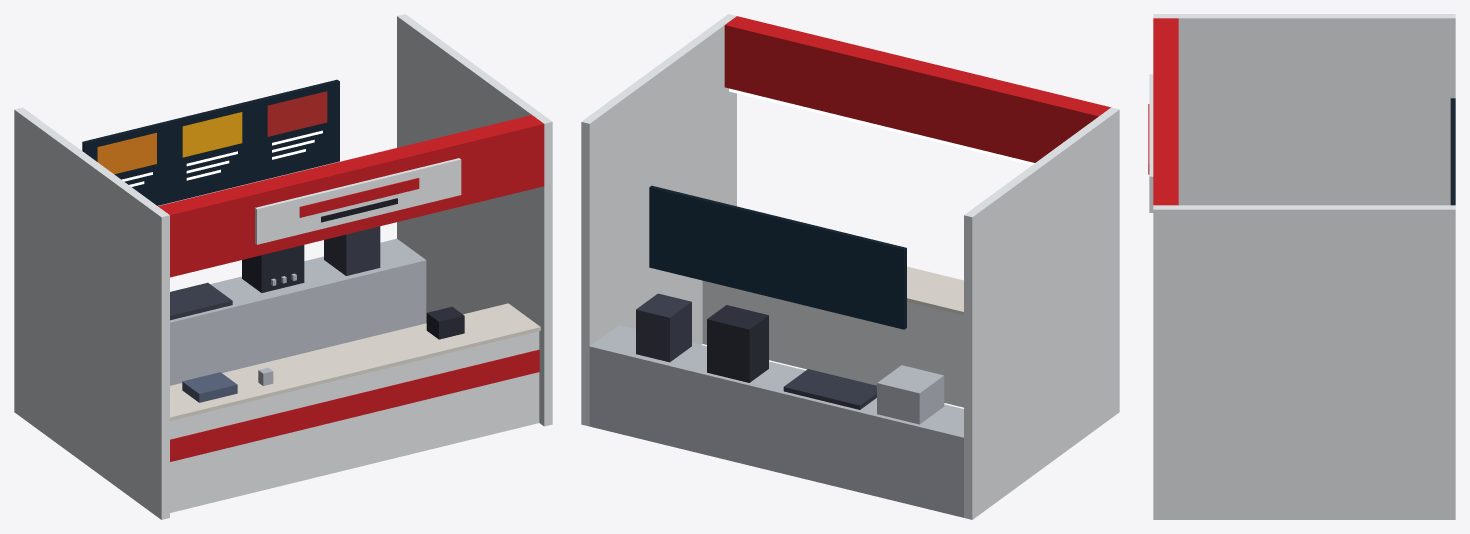
File: mal-020.glb
3 renders of one model, left to right at view 1: azimuth 30°, elevation 25°; view 2: azimuth 150°, elevation 25°; view 3: azimuth 270°, elevation 25°, orthographic. The views are drawn at different scales.
Visible parts, largest first — view 1: white, accent_red, stainless, monitor_screen, laminate, dark_steel, plastic_dark, accent_amber, fruit_red, fruit_orange, tray, display_white; view 2: white, stainless, accent_red, monitor_screen, dark_steel, plastic_dark, laminate, lamp_diffuser; view 3: white, accent_red, monitor_screen.
Boxes of the visible parts, box(x1,y1,x2,y2) form: white: box(14, 14, 552, 519); accent_red: box(158, 115, 544, 461); stainless: box(170, 238, 426, 385); monitor_screen: box(82, 79, 339, 205); laminate: box(170, 303, 540, 420); dark_steel: box(170, 226, 380, 320); plastic_dark: box(242, 245, 464, 339); accent_amber: box(182, 112, 242, 157); fruit_red: box(267, 91, 327, 136); fruit_orange: box(97, 133, 156, 174); tray: box(182, 372, 237, 402); display_white: box(122, 130, 322, 186); white: box(581, 14, 1119, 519); stainless: box(589, 325, 963, 517); accent_red: box(724, 16, 1110, 162); monitor_screen: box(649, 185, 906, 329); dark_steel: box(636, 293, 876, 409); plastic_dark: box(707, 305, 768, 382); laminate: box(907, 266, 963, 315); lamp_diffuser: box(729, 88, 1034, 165); white: box(1149, 14, 1455, 519); accent_red: box(1148, 18, 1178, 205); monitor_screen: box(1450, 98, 1455, 205).
Bounding box in the file's own units: 4.6 × 3.4 × 3.05.
